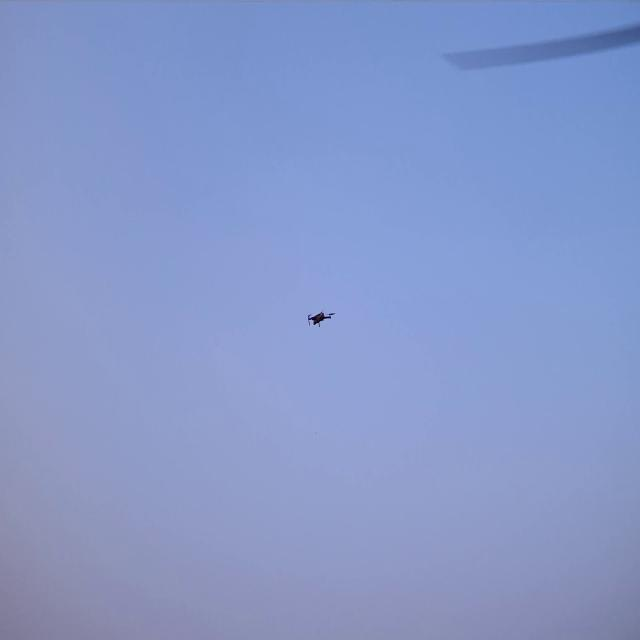UAV: (308, 312, 333, 326)
